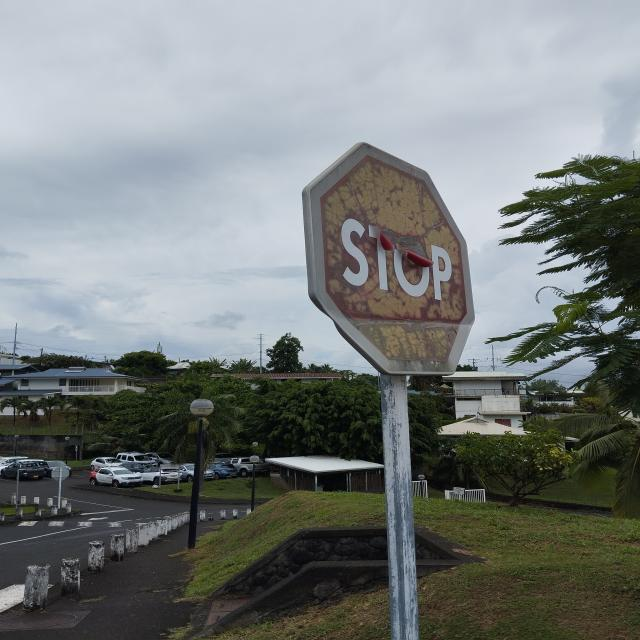Panneau-Stop: (300, 152, 473, 377)
